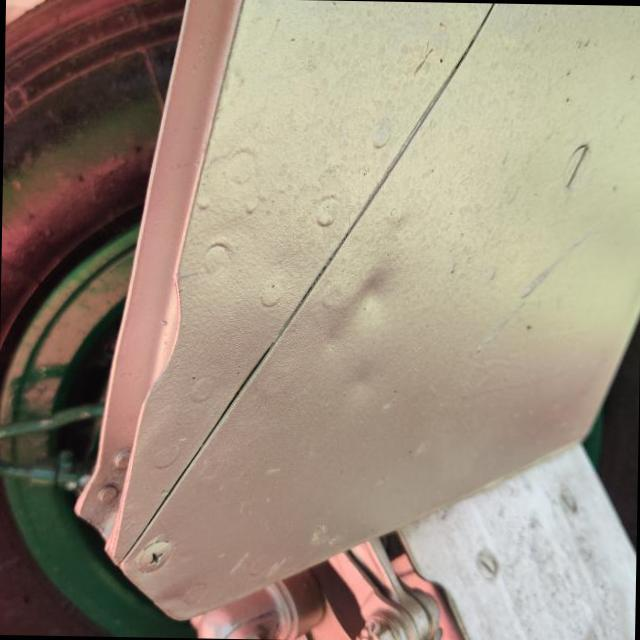Dent: (312, 243, 416, 356)
